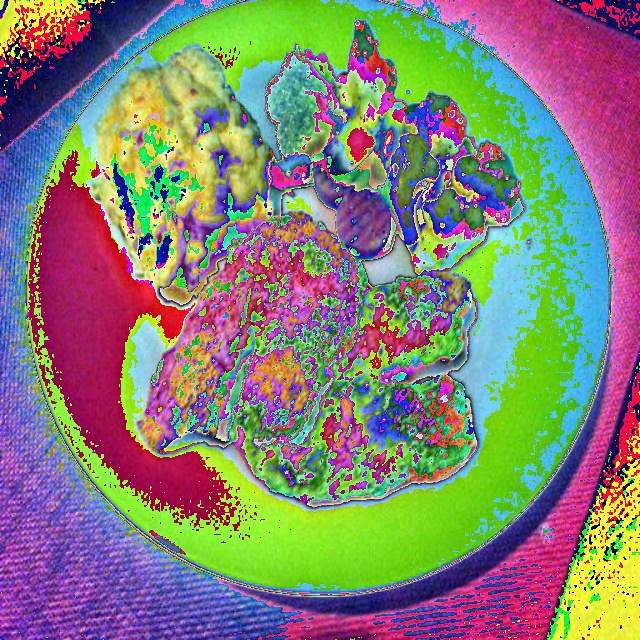background: (92, 19, 521, 504)
